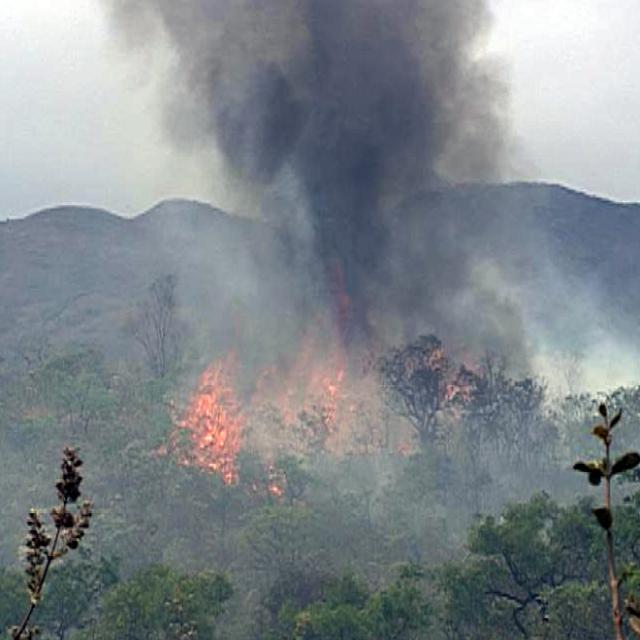Fire: (160, 364, 250, 486), (292, 363, 380, 449)
Smoke: (158, 6, 587, 352)
